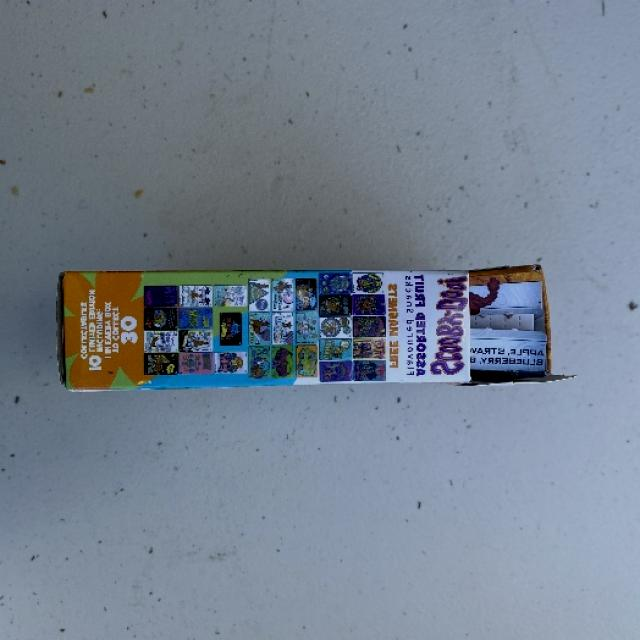kertas: (27, 260, 587, 422)
